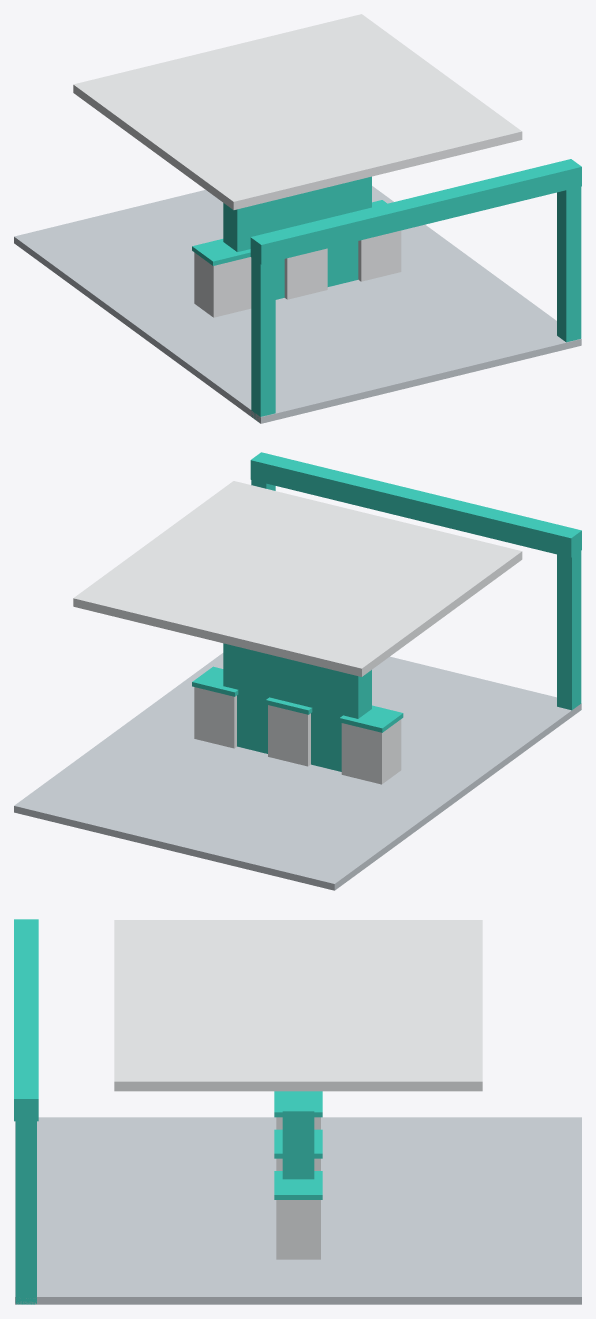
3 views of the same model, one above another, from view 1: azimuth 30°, elevation 25°; view 2: azimuth 150°, elevation 25°; view 3: azimuth 270°, elevation 25° (orthographic). The views are drawn at different scales.
Parts seen in each view (by area): view 1: Exhibition Booth Concept; view 2: Exhibition Booth Concept; view 3: Exhibition Booth Concept.
Boxes of the visible parts, x1,y1,x2,y2 form: Exhibition Booth Concept: (14,14,581,423); Exhibition Booth Concept: (14,452,581,890); Exhibition Booth Concept: (14,919,581,1304).
Size of the model in its own units: 6 by 3.34 by 8.01.
